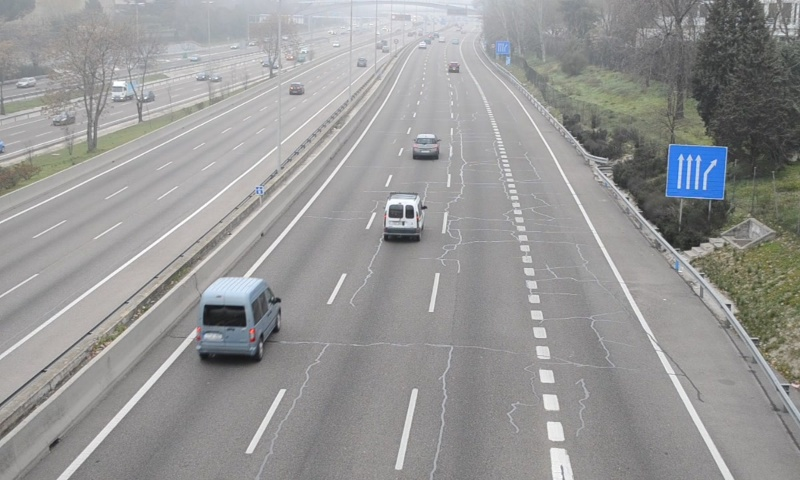car: (412, 133, 439, 158)
van: (198, 278, 280, 357), (383, 194, 424, 239)
